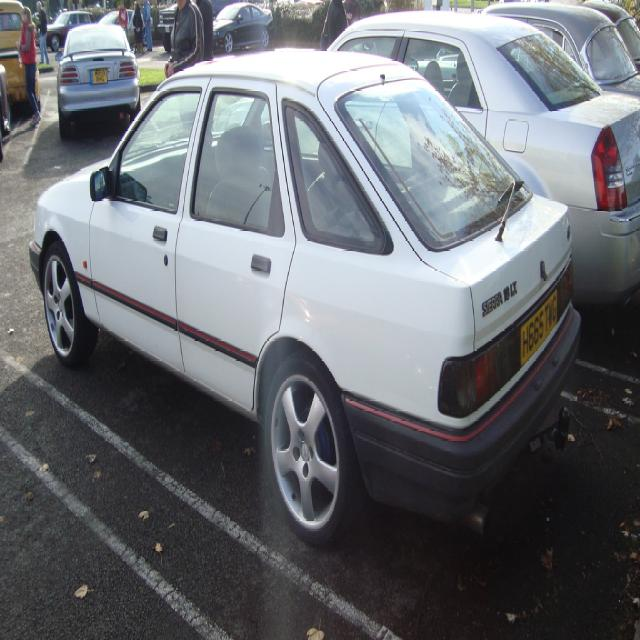car: (27, 44, 581, 544), (55, 17, 140, 139)
